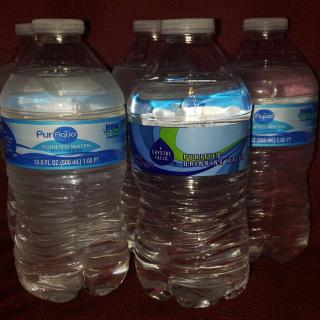Plastic-bottle: (125, 19, 257, 313), (4, 16, 132, 304), (238, 18, 320, 268)
